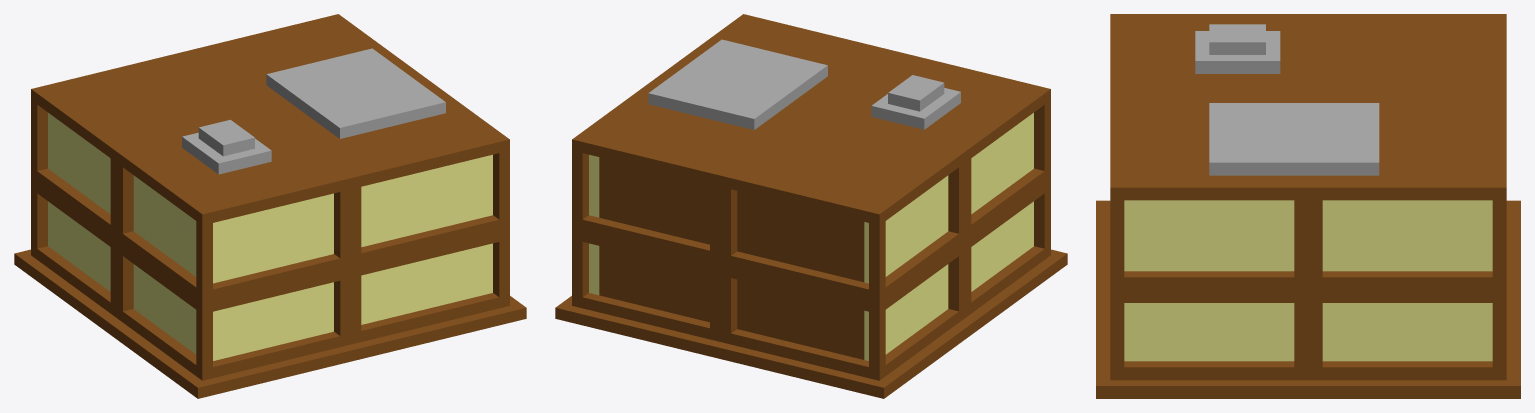
The model's file is edificio2.obj.
3 views of the same model, side by side, from view 1: azimuth 30°, elevation 25°; view 2: azimuth 150°, elevation 25°; view 3: azimuth 270°, elevation 25° (orthographic). The views are drawn at different scales.
Size of the model in its own units: 3.1 by 1.8 by 3.
1 material, 1 textured.
